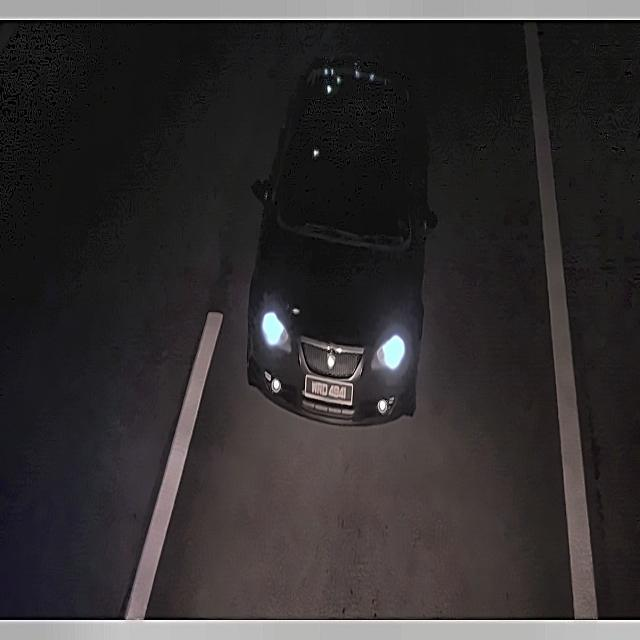car: (300, 367, 359, 411)
